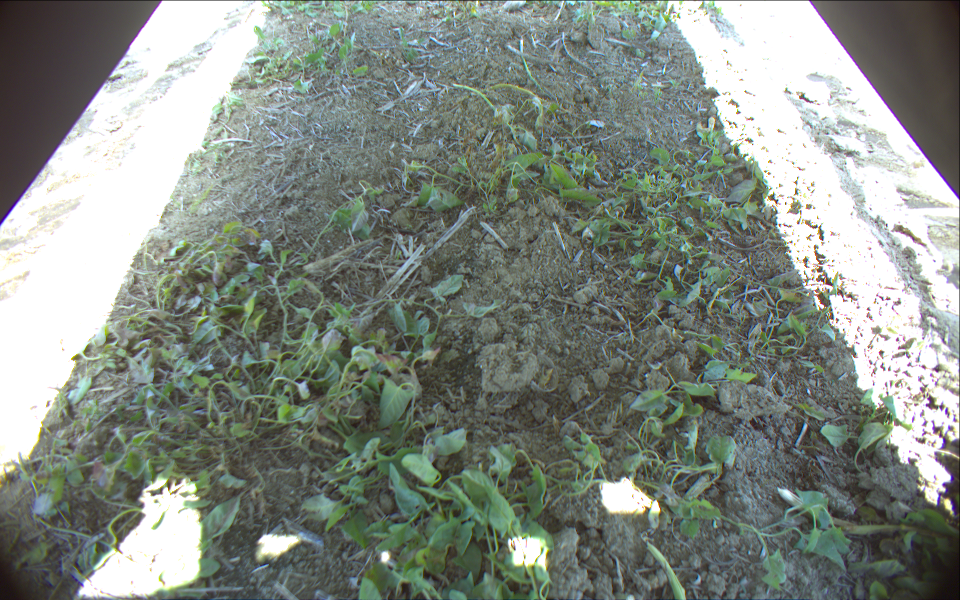aspa: (648, 543, 686, 600), (519, 35, 543, 90), (453, 82, 496, 112), (494, 81, 538, 101)
